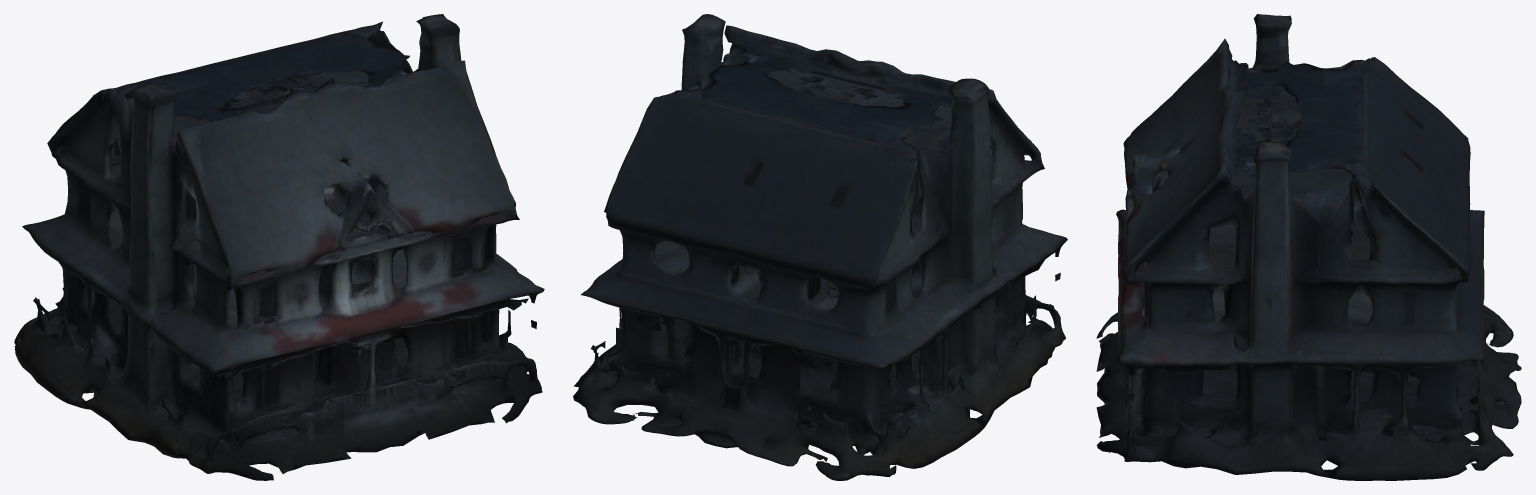
Rendered from BIG_HORROR_HOUSE_0124123507_refine.fbx.
The picture shows the model from 3 angles, left to right: view 1: azimuth 30°, elevation 25°; view 2: azimuth 150°, elevation 25°; view 3: azimuth 270°, elevation 25°; orthographic projection. The views are drawn at different scales.
Parts seen in each view (by area): view 1: Mesh_0; view 2: Mesh_0; view 3: Mesh_0.
Part boxes in pixels (left/top/right/bottom): Mesh_0: left=14, top=14, right=544, bottom=480; Mesh_0: left=573, top=14, right=1067, bottom=480; Mesh_0: left=1096, top=14, right=1521, bottom=480.
Size of the model in its own units: 190 by 156 by 191.
Materials: 1 (1 with a texture image).
